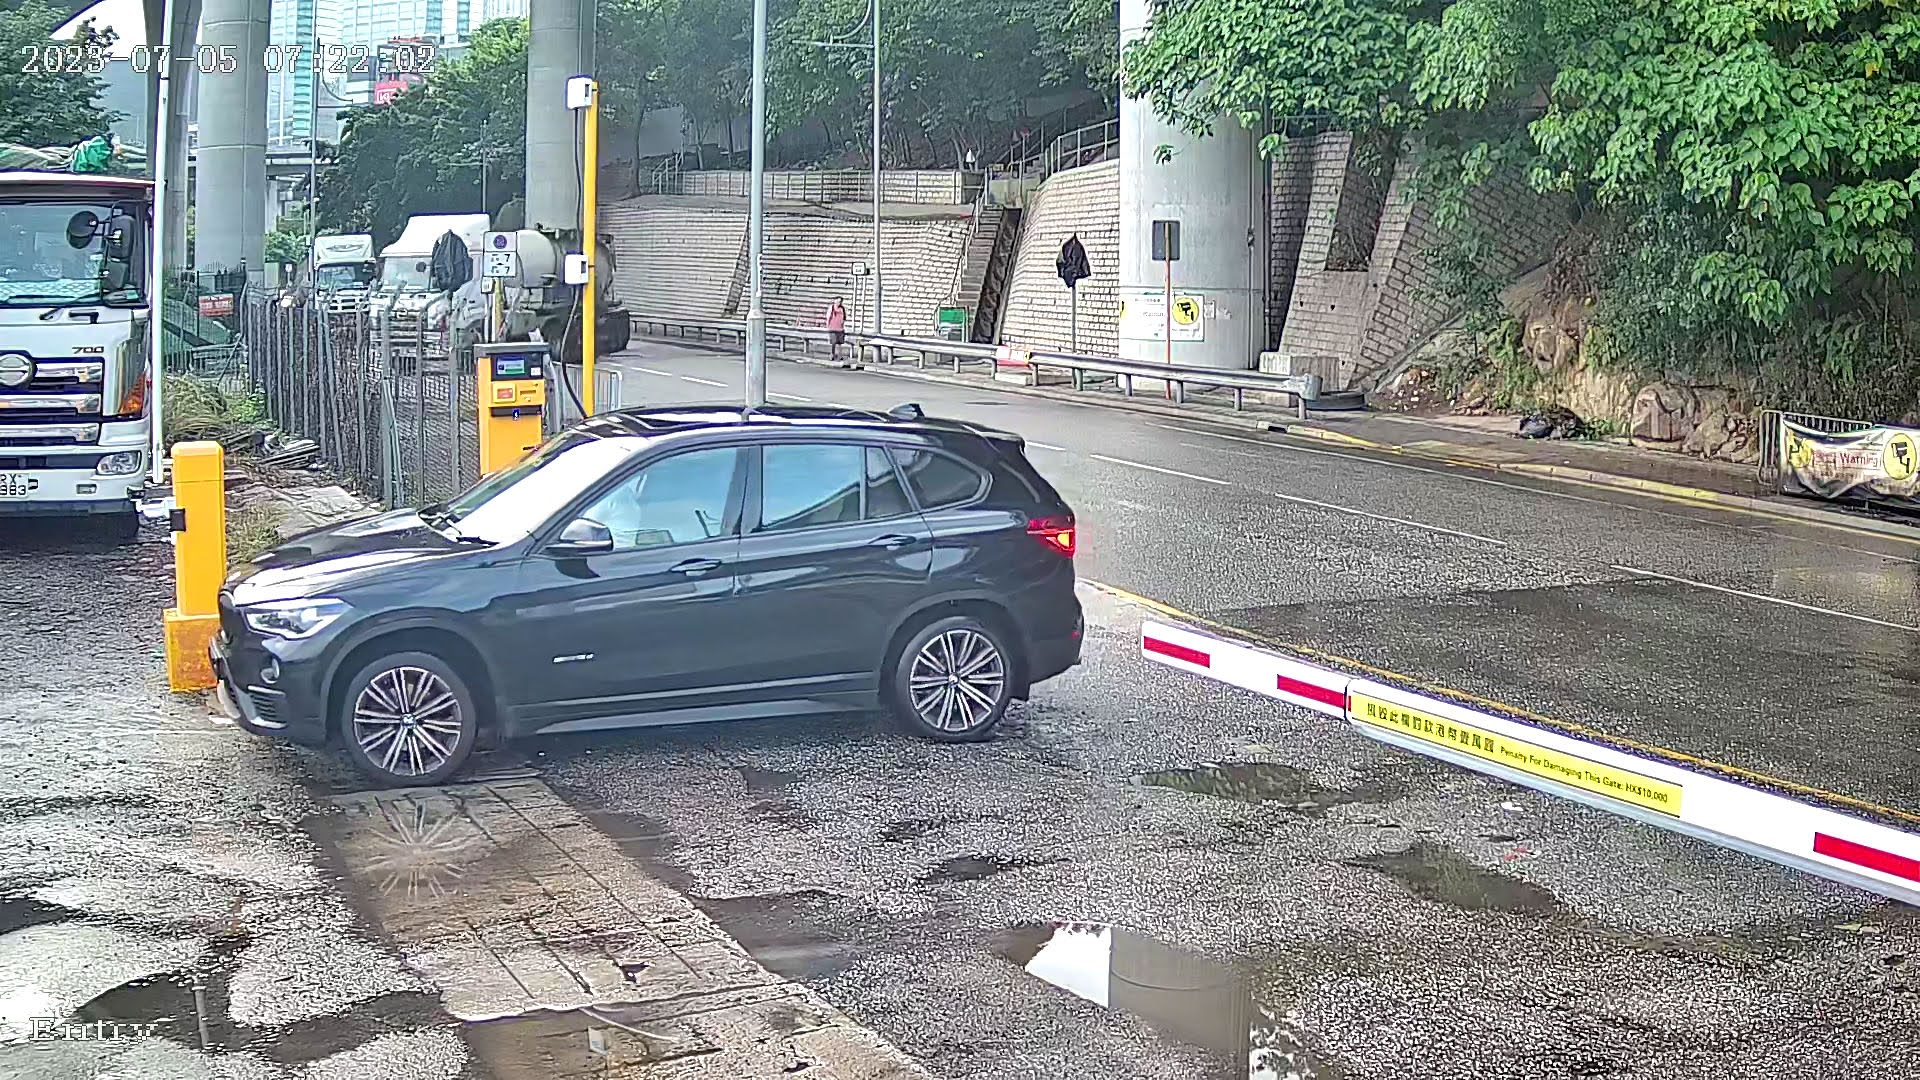privatecar: (166, 361, 1131, 799)
